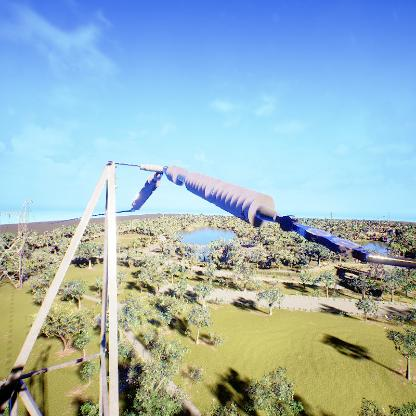insulator: (164, 164, 277, 231), (130, 172, 160, 211)
